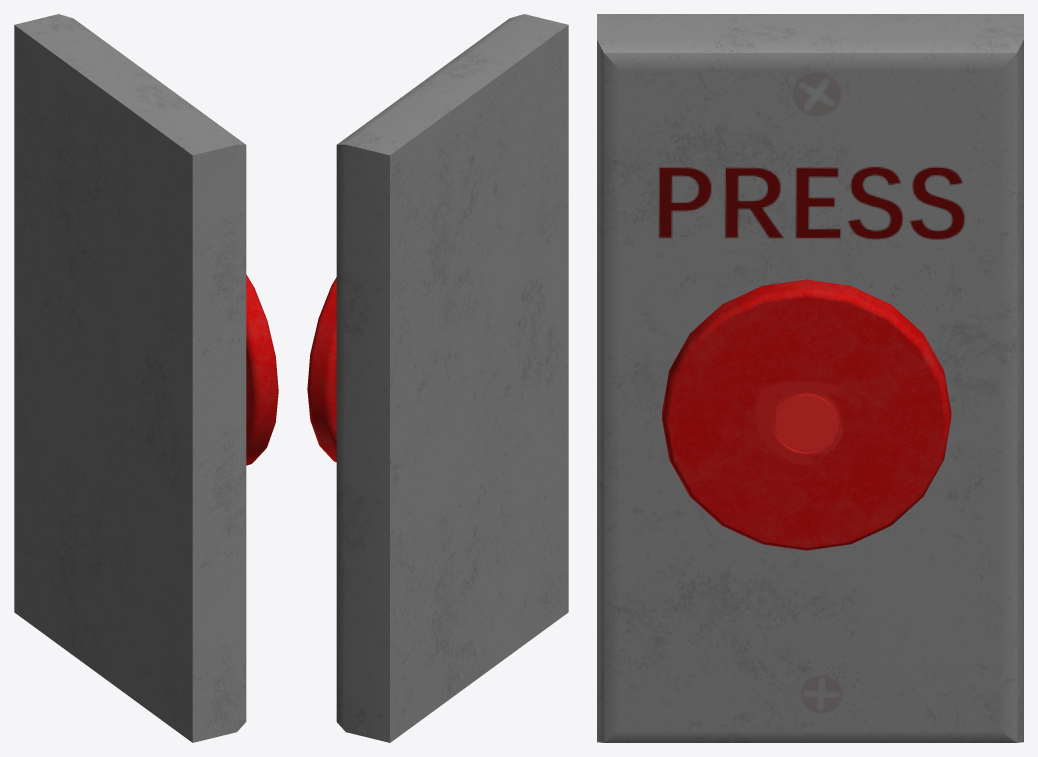
File: Button.fbx
The picture shows the model from 3 angles, left to right: view 1: azimuth 30°, elevation 25°; view 2: azimuth 150°, elevation 25°; view 3: azimuth 270°, elevation 25°; orthographic projection. The views are drawn at different scales.
Visible parts, largest first — view 1: pCube9, pCylinder1; view 2: pCube9, pCylinder1; view 3: pCube9, pCylinder1.
Part boxes in pixels (x1,y1,x2,y2): pCube9: (14,14,246,742); pCylinder1: (246,274,278,465); pCube9: (336,14,568,742); pCylinder1: (307,277,336,462); pCube9: (597,14,1023,742); pCylinder1: (662,279,951,550).
Bounding box in the file's own units: 0.1024 × 0.4961 × 0.2731.
Materials: 2 (2 with a texture image).
